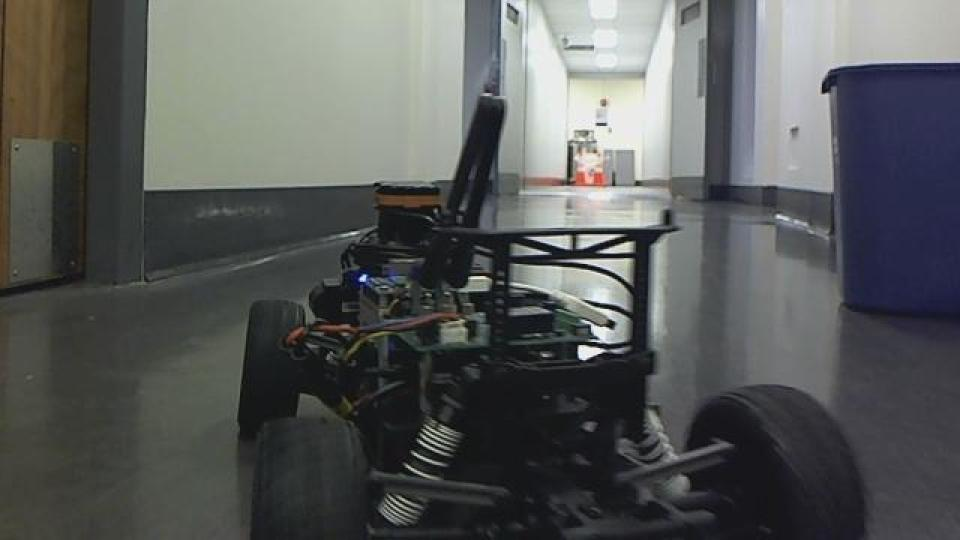car: (232, 90, 870, 537)
